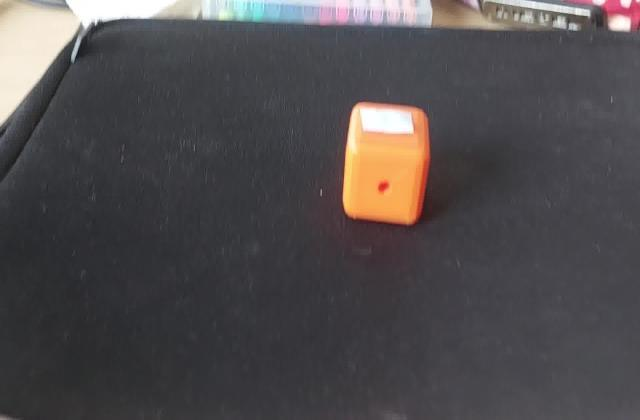cube: (340, 98, 435, 230)
white: (359, 107, 419, 140)
